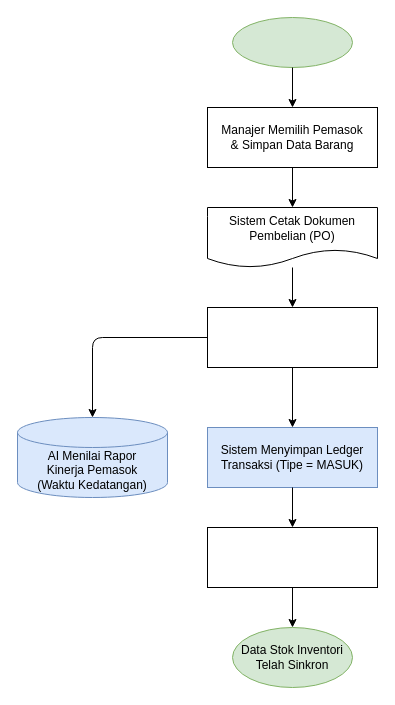
Some shapes in this 395 by 705 pixel diagram are drawn without their labels. Here are the shapes that lost their labels. From the top down, the box of each, then its label:
(232, 16, 352, 68): Mulai Proses
(206, 306, 378, 368): Barang Tiba di Gudang (Staf Merekam Penerimaan)
(206, 526, 378, 588): Staf Memasukkan Barang ke Rak & Zona Fisik
